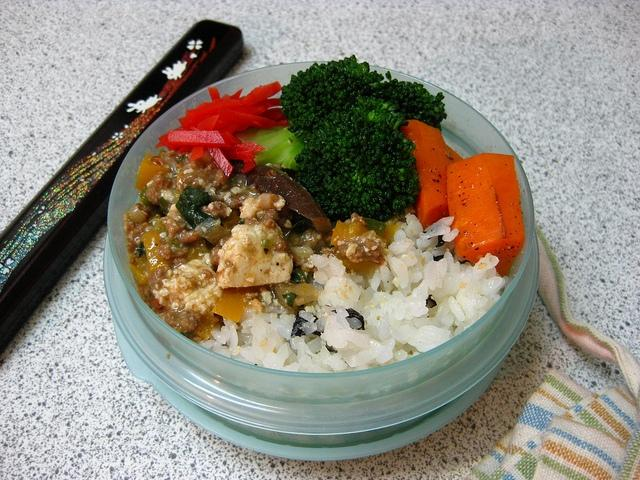broccoli: (294, 96, 421, 223), (279, 55, 384, 138), (372, 71, 447, 131)
carrot: (446, 154, 509, 264), (469, 153, 525, 276), (400, 119, 454, 231)
